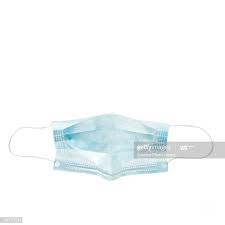flumask: (56, 119, 166, 185)
